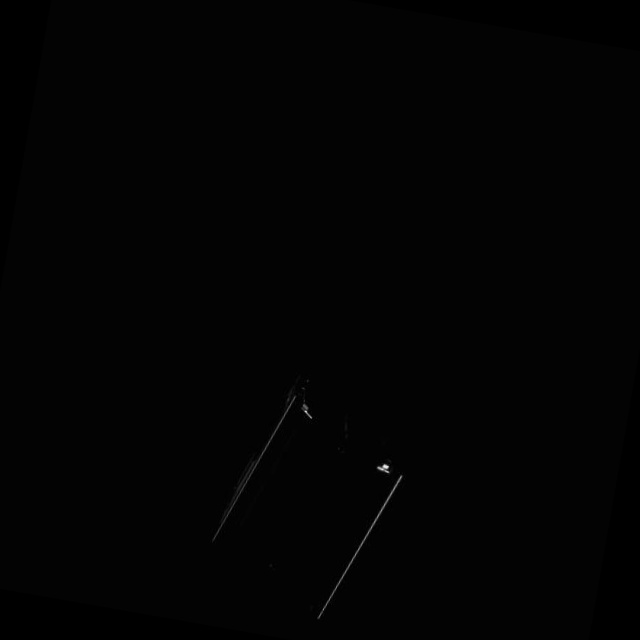satellite: (200, 359, 428, 635)
